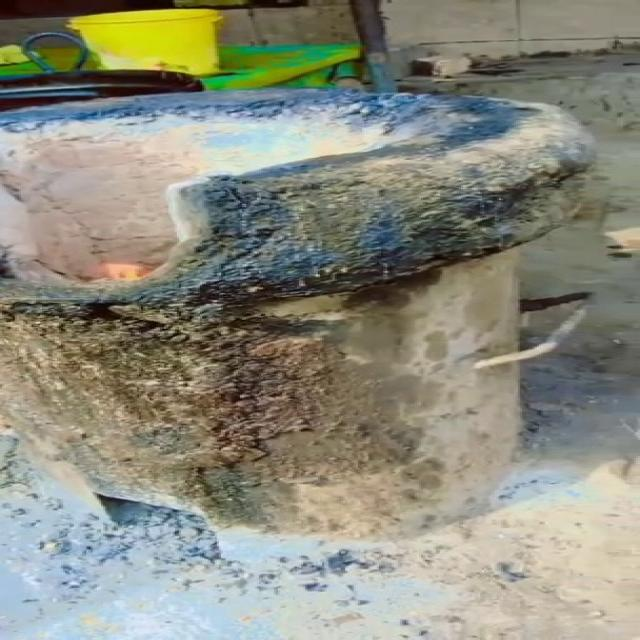Fire: (103, 260, 158, 284)
